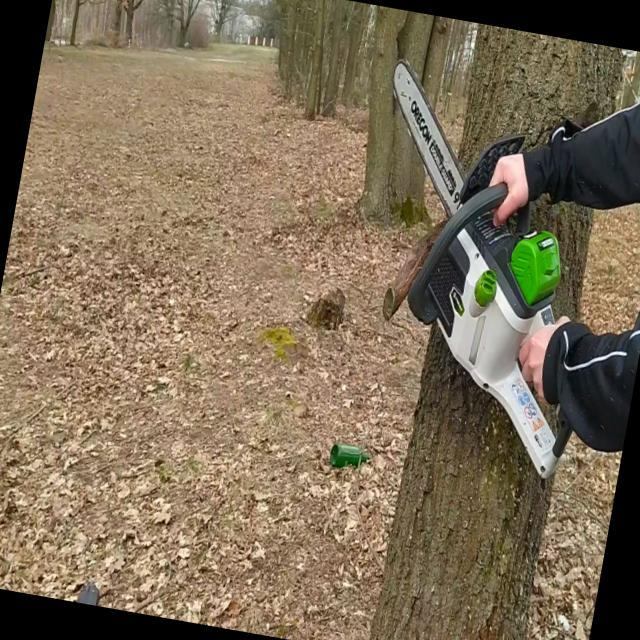Chainsaw: (320, 52, 634, 489)
